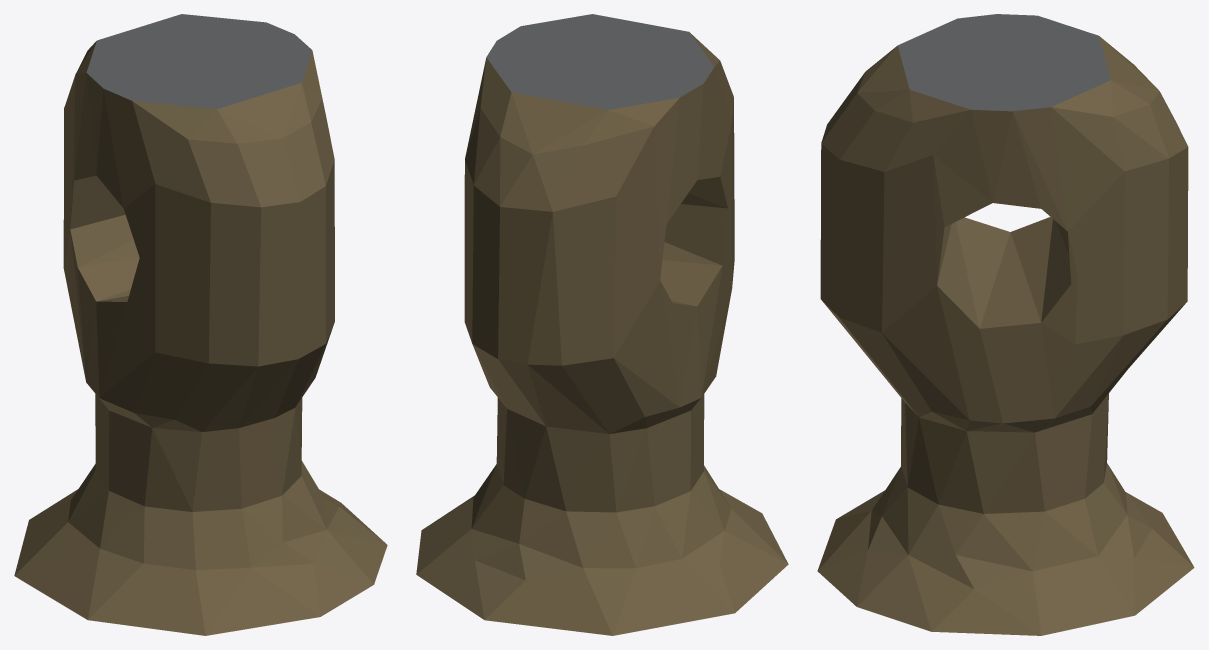
Rendered from Ring Island.fbx.
3 views of the same model, side by side, from view 1: azimuth 30°, elevation 25°; view 2: azimuth 150°, elevation 25°; view 3: azimuth 270°, elevation 25° (orthographic).
Parts seen in each view (by area): view 1: Cylinder; view 2: Cylinder; view 3: Cylinder.
Part boxes in pixels (x1=…): Cylinder: x1=14, y1=14, x2=387, y2=635; Cylinder: x1=416, y1=14, x2=788, y2=635; Cylinder: x1=817, y1=14, x2=1194, y2=635.
Bounding box in the file's own units: 359 × 529 × 365.
